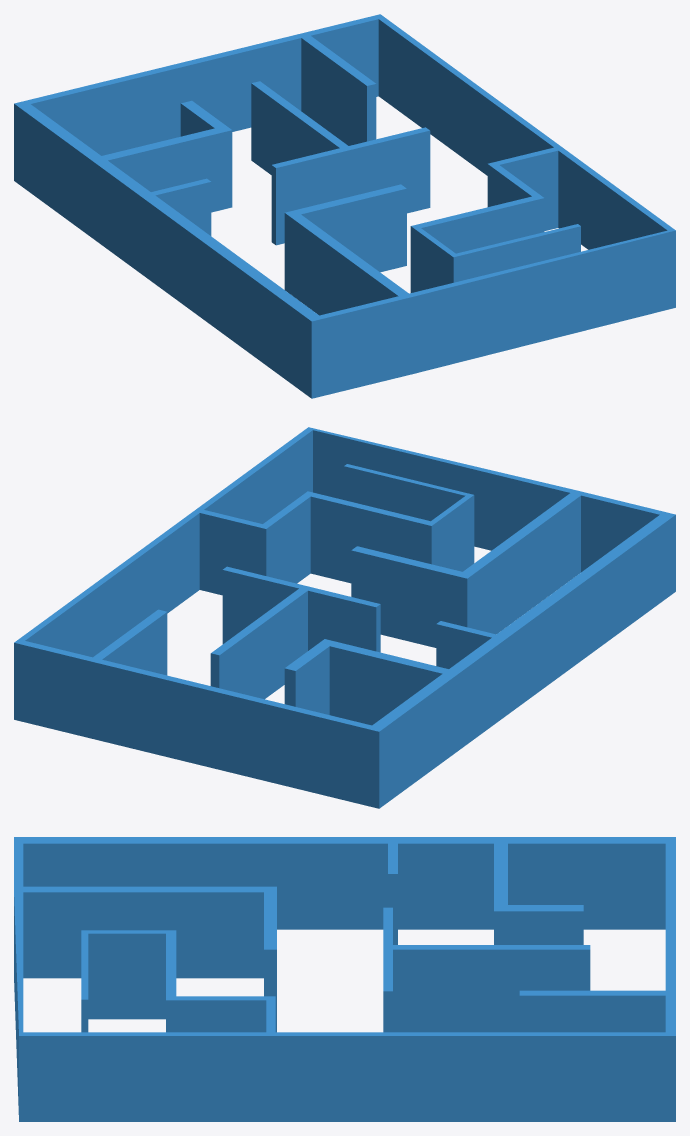
File: maze.dae
3 renders of one model, top to bottom at view 1: azimuth 30°, elevation 25°; view 2: azimuth 150°, elevation 25°; view 3: azimuth 270°, elevation 25°, orthographic. The views are drawn at different scales.
Visible parts, largest first — view 1: Cube; view 2: Cube; view 3: Cube.
Part boxes in pixels (x1,y1,x2,y2): Cube: [14, 14, 675, 398]; Cube: [14, 427, 675, 808]; Cube: [14, 837, 675, 1121].
Bounding box in the file's own units: 7.35 × 10.35 × 1.48.
